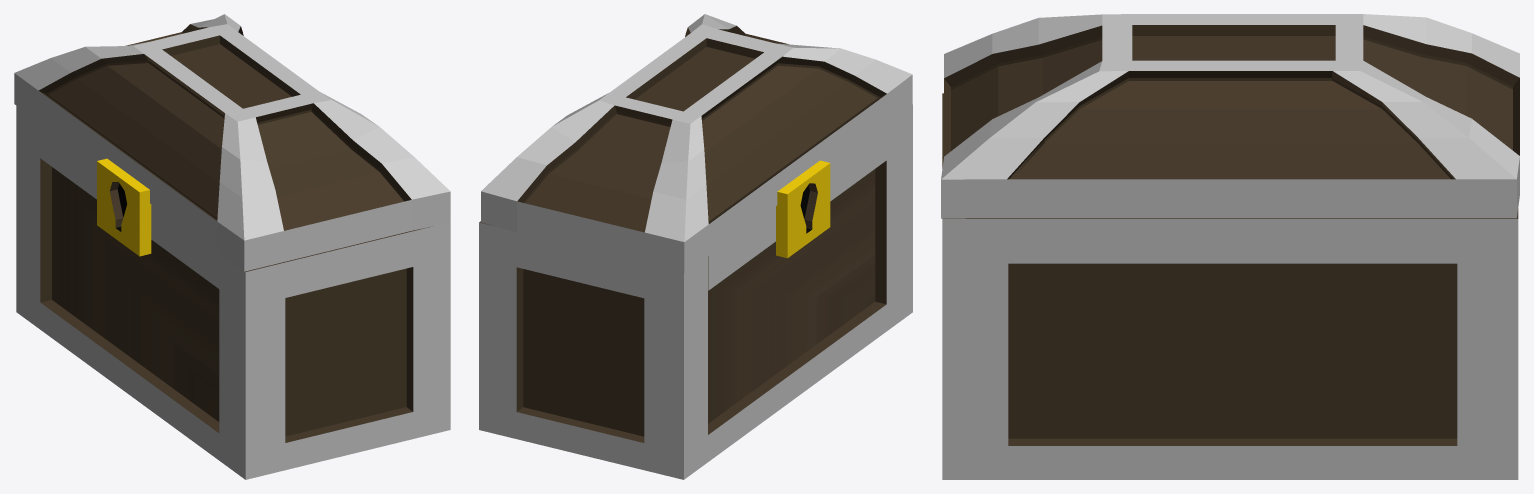
The model's file is Chest.fbx.
The picture shows the model from 3 angles, left to right: view 1: azimuth 30°, elevation 25°; view 2: azimuth 150°, elevation 25°; view 3: azimuth 270°, elevation 25°; orthographic projection. The views are drawn at different scales.
Visible parts, largest first — view 1: Cube; view 2: Cube; view 3: Cube.
Part boxes in pixels (box(x1,y1,x2,y2)): Cube: box(14, 14, 450, 479); Cube: box(479, 14, 912, 479); Cube: box(941, 14, 1519, 479).
Size of the model in its own units: 148 by 194 by 273.
